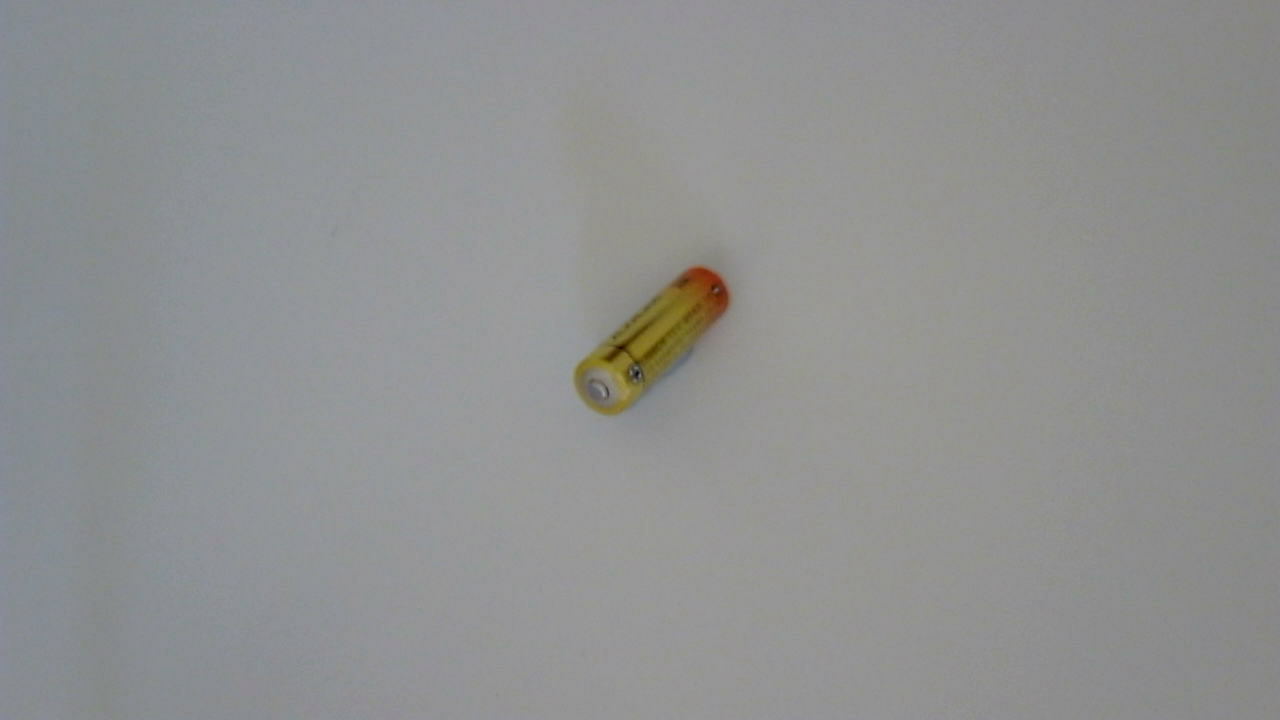Battery: (576, 269, 739, 427)
